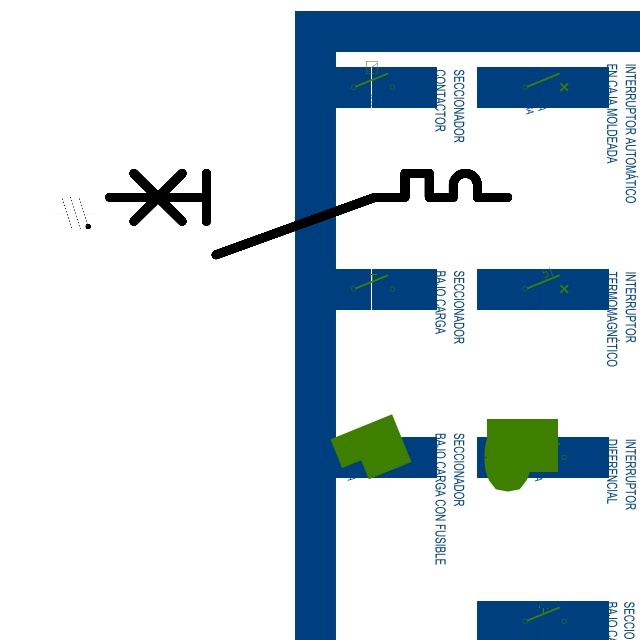interruptor_termomagnetico: (99, 163, 518, 265)
